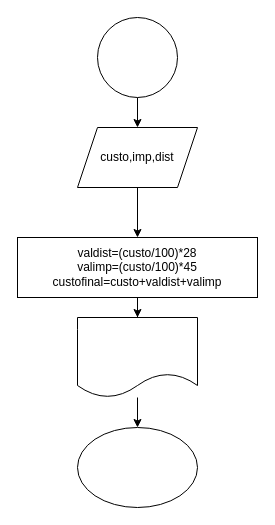
Image size: 275x525. Some labels were removed from this diagram. The box of each missing label's shape, as (x1, y1, x2, y2) in pixels:
custo final: (76, 316, 198, 398)
inicio: (96, 16, 178, 98)
